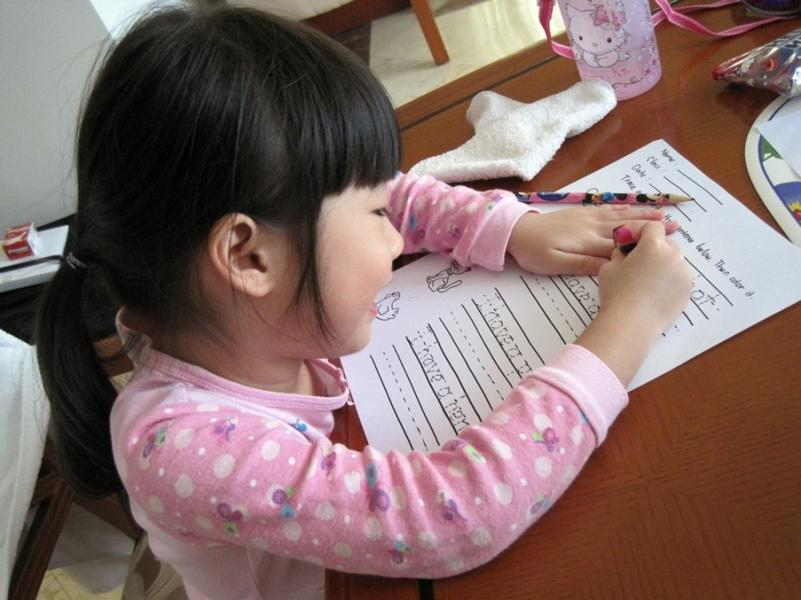person: (38, 7, 686, 599)
